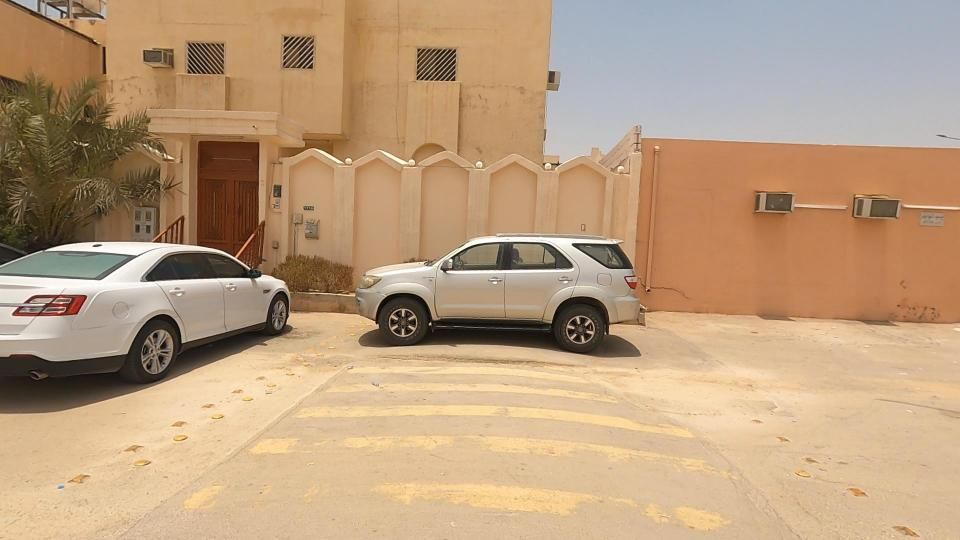GRAFFITI: (848, 224, 960, 367)
